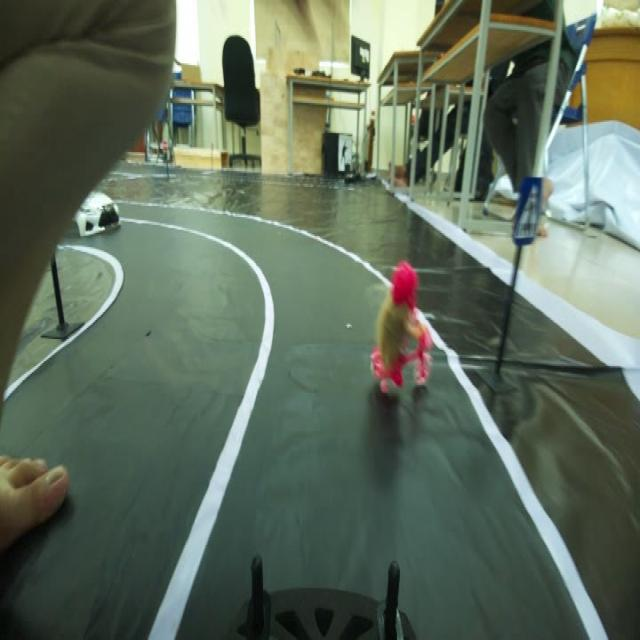crosswalk: (509, 169, 544, 252)
pedestrian: (363, 253, 441, 394)
